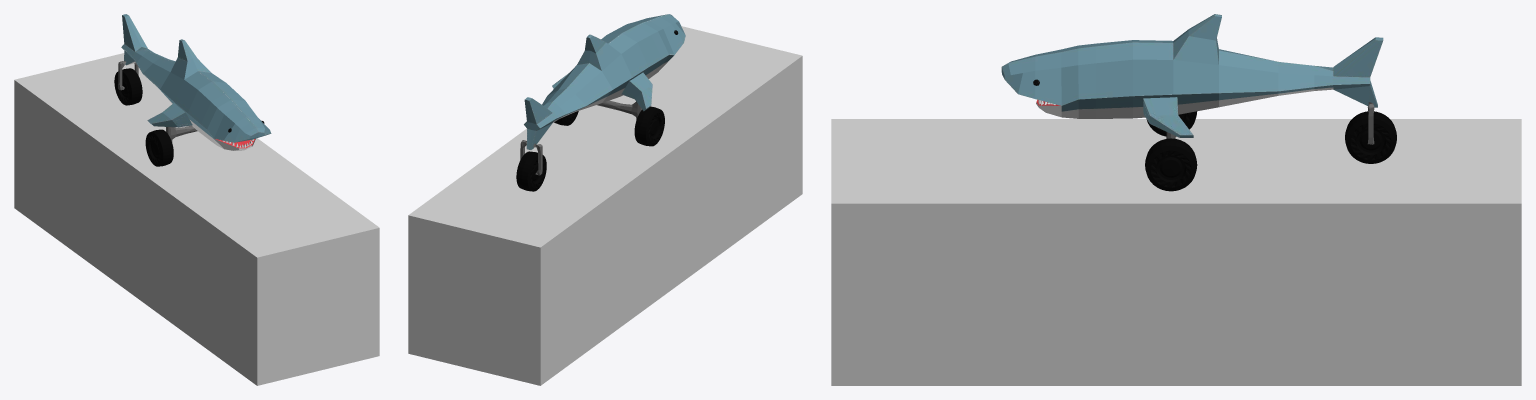
The model's file is sharkCar.fbx.
3 views of the same model, side by side, from view 1: azimuth 30°, elevation 25°; view 2: azimuth 150°, elevation 25°; view 3: azimuth 270°, elevation 25° (orthographic). The views are drawn at different scales.
Visible parts, largest first — view 1: Cube.001, Cube_Cube.001, wheel.002, wheel.001; view 2: Cube.001, Cube_Cube.001, wheel.002, wheel.001, Cube.002; view 3: Cube.001, Cube_Cube.001, wheel.003, wheel.001.
Boxes of the visible parts, bbox=[...] form: Cube.001: bbox=[14, 53, 379, 385]; Cube_Cube.001: bbox=[121, 14, 271, 150]; wheel.002: bbox=[145, 129, 173, 166]; wheel.001: bbox=[114, 68, 142, 105]; Cube.001: bbox=[408, 26, 802, 385]; Cube_Cube.001: bbox=[524, 14, 685, 149]; wheel.002: bbox=[634, 106, 664, 146]; wheel.001: bbox=[516, 151, 546, 191]; Cube.002: bbox=[597, 100, 641, 119]; Cube.001: bbox=[831, 119, 1521, 385]; Cube_Cube.001: bbox=[1001, 14, 1383, 137]; wheel.003: bbox=[1145, 138, 1197, 191]; wheel.001: bbox=[1345, 111, 1396, 163].
Bounding box in the file's own units: 600 × 1083 × 2060.
